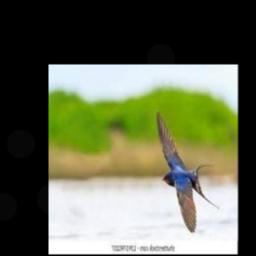Swallow: (156, 109, 220, 232)
